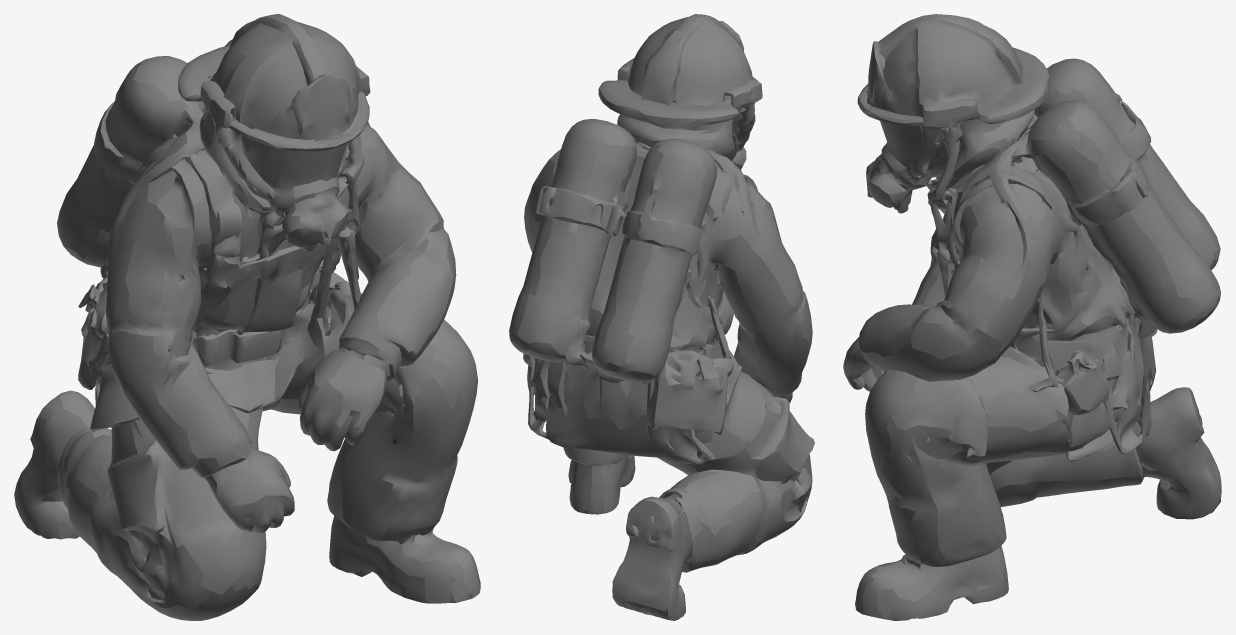
Rendered from completion_firefighter_0.glb.
3 renders of one model, left to right at view 1: azimuth 30°, elevation 25°; view 2: azimuth 150°, elevation 25°; view 3: azimuth 270°, elevation 25°, orthographic. The views are drawn at different scales.
Visible parts, largest first — view 1: geometry_0; view 2: geometry_0; view 3: geometry_0.
Part boxes in pixels (<box>): geometry_0: <box>14,14,480,620</box>; geometry_0: <box>509,14,814,620</box>; geometry_0: <box>843,14,1221,620</box>.
Size of the model in its own units: 0.593 by 1 by 0.6414.
1 material, 1 textured.
